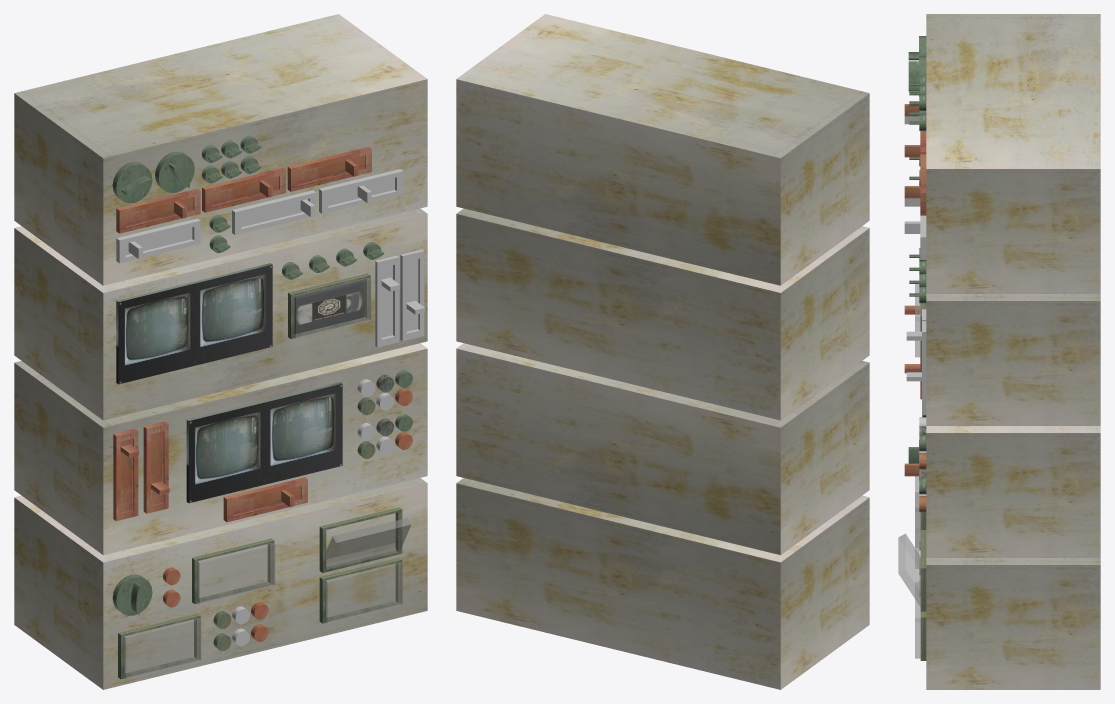
File: piscar maquinas.fbx
3 views of the same model, side by side, from view 1: azimuth 30°, elevation 25°; view 2: azimuth 150°, elevation 25°; view 3: azimuth 270°, elevation 25° (orthographic). The views are drawn at different scales.
Visible parts, largest first — view 1: pCube468, pCube473, pCube471, pCube472, pCube488, pCube492, polySurface72 (×4), polySurface75 (×3), pCube500, pCube498, pCube491, pCube495 (+20 smaller); view 2: pCube468, pCube473, pCube471, pCube472; view 3: pCube468, pCube471, pCube472, pCube473, pCube494, pCube493, polySurface75, pCube495, polySurface73, pCube498, pCube500, pCube491 (+1 smaller).
Boxes of the visible parts, bbox=[...] form: pCube468: bbox=[14, 14, 427, 285]; pCube473: bbox=[14, 478, 427, 689]; pCube471: bbox=[14, 208, 427, 420]; pCube472: bbox=[14, 343, 427, 555]; pCube488: bbox=[116, 263, 272, 384]; pCube492: bbox=[186, 382, 342, 503]; polySurface72 (×4): bbox=[113, 168, 307, 522]; polySurface75 (×3): bbox=[319, 169, 424, 347]; pCube500: bbox=[123, 618, 201, 679]; pCube498: bbox=[197, 543, 275, 603]; pCube491: bbox=[293, 277, 371, 338]; pCube495: bbox=[325, 562, 402, 623]; pCube468: bbox=[456, 14, 869, 285]; pCube473: bbox=[456, 478, 869, 689]; pCube471: bbox=[456, 208, 869, 420]; pCube472: bbox=[456, 343, 869, 555]; pCube468: bbox=[926, 14, 1100, 293]; pCube471: bbox=[926, 294, 1100, 425]; pCube472: bbox=[926, 426, 1100, 557]; pCube473: bbox=[926, 558, 1100, 689]; pCube494: bbox=[898, 533, 920, 606]; pCube493: bbox=[920, 530, 926, 611]; polySurface75: bbox=[922, 321, 926, 415]; pCube495: bbox=[915, 582, 920, 658]; polySurface73: bbox=[920, 154, 926, 215]; pCube498: bbox=[915, 476, 920, 547]; pCube500: bbox=[915, 492, 920, 568]; pCube491: bbox=[915, 284, 920, 357].
Bounding box in the file's own units: 7.55 × 11.81 × 4.16.
